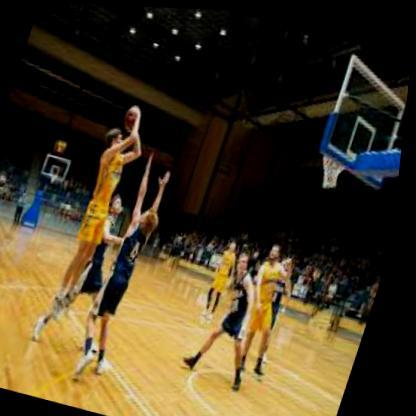basketball: (123, 101, 146, 133)
